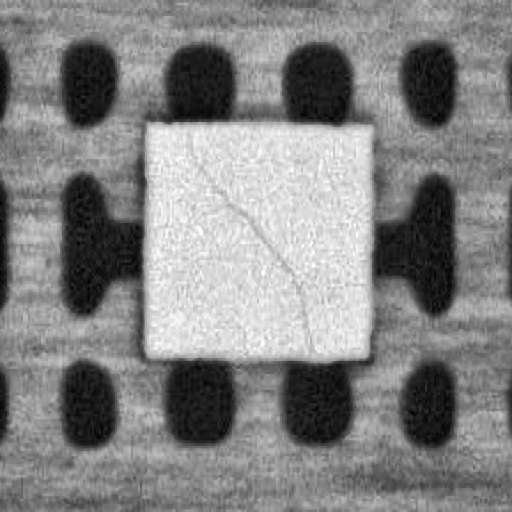DIE_CRACK: (182, 128, 304, 334)
